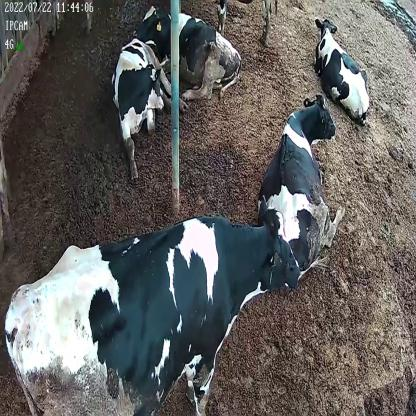cow: (2, 215, 301, 416), (258, 95, 348, 282), (112, 32, 188, 175), (140, 2, 244, 104), (311, 8, 372, 125)
